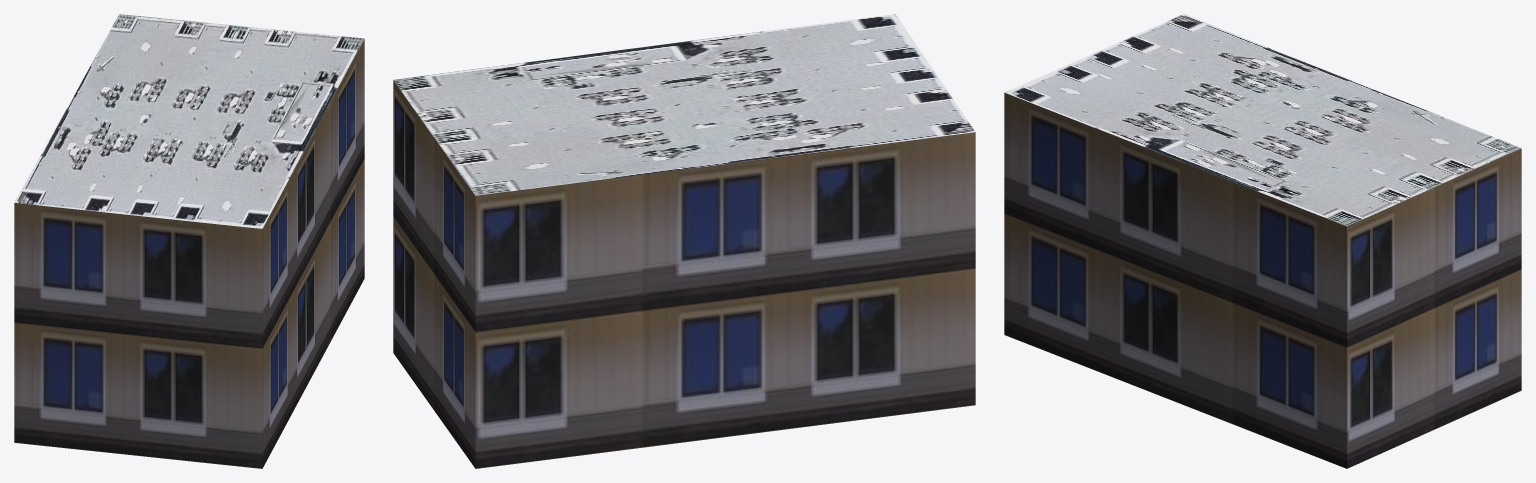
Rendered from ResTex__1682.fbx.
3 views of the same model, side by side, from view 1: azimuth 30°, elevation 25°; view 2: azimuth 150°, elevation 25°; view 3: azimuth 270°, elevation 25° (orthographic). The views are drawn at different scales.
Parts seen in each view (by area): view 1: CityEngineMaterial_5_m, CityEngineMaterial_8_m; view 2: CityEngineMaterial_5_m, CityEngineMaterial_8_m; view 3: CityEngineMaterial_5_m, CityEngineMaterial_8_m.
Part boxes in pixels (<box>): CityEngineMaterial_5_m: <box>14,39,364,468</box>; CityEngineMaterial_8_m: <box>14,14,364,228</box>; CityEngineMaterial_5_m: <box>393,80,975,468</box>; CityEngineMaterial_8_m: <box>393,14,975,195</box>; CityEngineMaterial_5_m: <box>1004,92,1521,468</box>; CityEngineMaterial_8_m: <box>1004,14,1521,226</box>.
Size of the model in its own units: 11.28 by 6 by 11.61.
2 materials, 2 textured.
